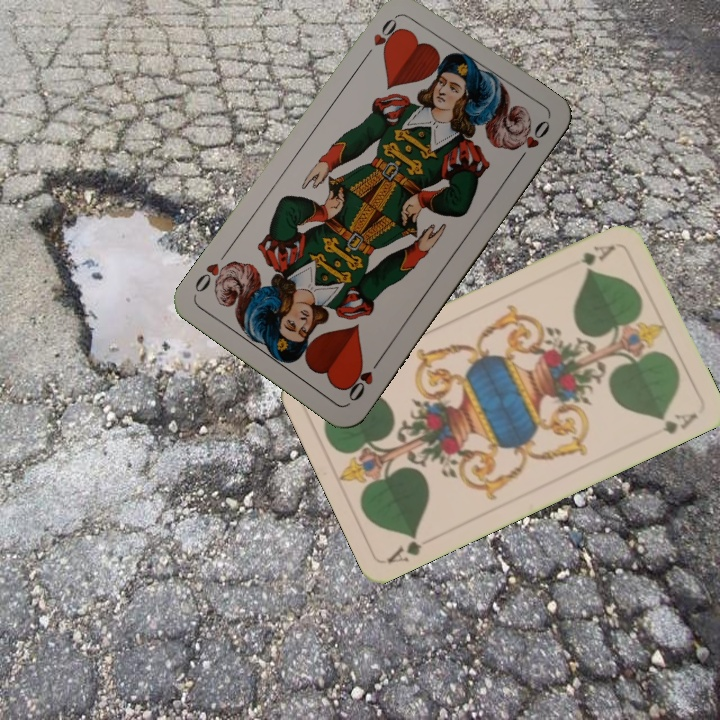GA: (383, 529, 425, 566), (576, 241, 618, 275)
HO: (341, 354, 384, 404), (369, 10, 404, 57)
